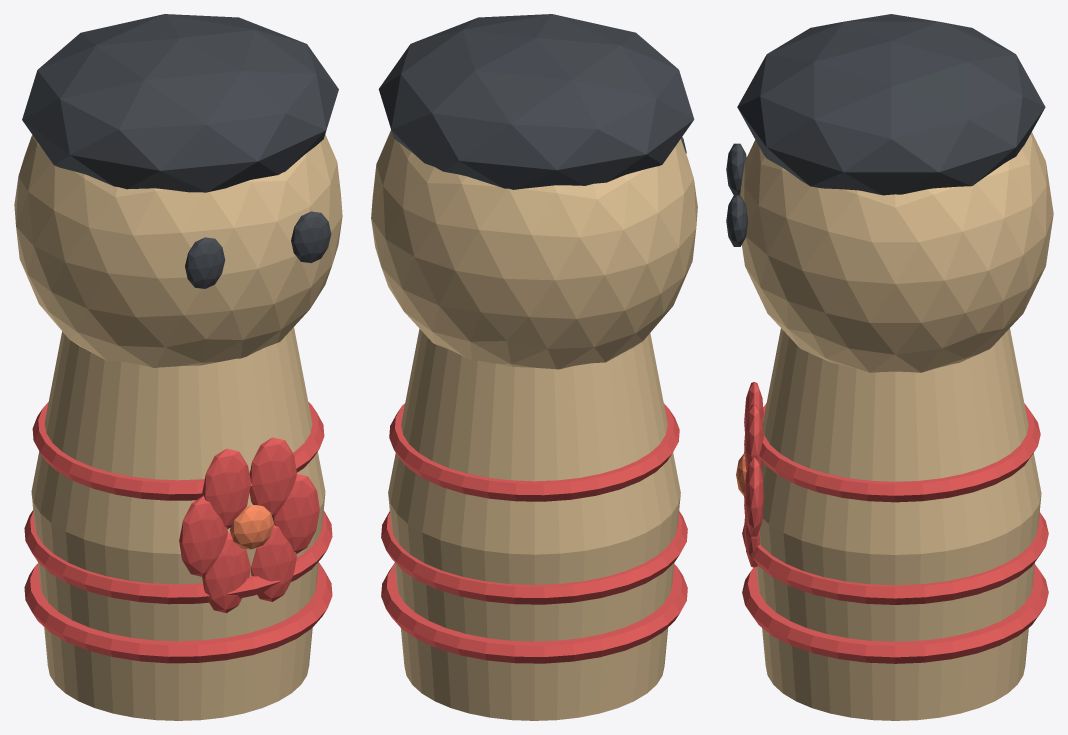
The model's file is folk_kokeshi.glb.
3 renders of one model, left to right at view 1: azimuth 30°, elevation 25°; view 2: azimuth 150°, elevation 25°; view 3: azimuth 270°, elevation 25°, orthographic.
Parts seen in each view (by area): view 1: Artisan turned kokeshi wooden body, Hand-carved kokeshi head, Deep blue lacquered bangs, Vermilion robe painted ring, Vermilion robe painted ring.001, Vermilion robe painted ring.002, Kokeshi flower on kimono_petal01, Kokeshi flower on kimono_petal03, Kokeshi flower on kimono_petal02, Kokeshi flower on kimono_petal00, Kokeshi flower on kimono_petal04, Kokeshi flower on kimono_petal05 (+3 smaller); view 2: Artisan turned kokeshi wooden body, Hand-carved kokeshi head, Deep blue lacquered bangs, Vermilion robe painted ring, Vermilion robe painted ring.002, Vermilion robe painted ring.001; view 3: Artisan turned kokeshi wooden body, Hand-carved kokeshi head, Deep blue lacquered bangs, Vermilion robe painted ring, Vermilion robe painted ring.002, Vermilion robe painted ring.001, Kokeshi flower on kimono_petal00, Kokeshi flower on kimono_petal01, Kokeshi delicate black eyes1, Kokeshi delicate black eyes-1.
Boxes of the visible parts, x1,y1,x2,y2 form: Artisan turned kokeshi wooden body: [31, 327, 325, 720]; Hand-carved kokeshi head: [14, 134, 342, 367]; Deep blue lacquered bangs: [22, 14, 338, 192]; Vermilion robe painted ring: [24, 562, 332, 663]; Vermilion robe painted ring.001: [24, 510, 332, 604]; Vermilion robe painted ring.002: [32, 402, 324, 500]; Kokeshi flower on kimono_petal01: [249, 437, 296, 518]; Kokeshi flower on kimono_petal03: [179, 496, 227, 576]; Kokeshi flower on kimono_petal02: [202, 448, 250, 528]; Kokeshi flower on kimono_petal00: [273, 474, 319, 553]; Kokeshi flower on kimono_petal04: [202, 532, 250, 613]; Kokeshi flower on kimono_petal05: [251, 525, 296, 601]; Artisan turned kokeshi wooden body: [388, 329, 680, 720]; Hand-carved kokeshi head: [371, 130, 697, 369]; Deep blue lacquered bangs: [378, 14, 694, 189]; Vermilion robe painted ring: [381, 563, 687, 663]; Vermilion robe painted ring.002: [389, 403, 679, 501]; Vermilion robe painted ring.001: [381, 511, 687, 604]; Artisan turned kokeshi wooden body: [756, 328, 1041, 720]; Hand-carved kokeshi head: [740, 132, 1053, 372]; Deep blue lacquered bangs: [737, 14, 1045, 195]; Vermilion robe painted ring: [742, 564, 1048, 663]; Vermilion robe painted ring.002: [759, 403, 1040, 502]; Vermilion robe painted ring.001: [742, 512, 1048, 604]; Kokeshi flower on kimono_petal00: [744, 457, 764, 537]; Kokeshi flower on kimono_petal01: [744, 404, 763, 470]; Kokeshi delicate black eyes1: [726, 195, 747, 246]; Kokeshi delicate black eyes-1: [726, 143, 746, 195].
Size of the model in its own units: 0.9085 by 1.95 by 0.8941.
